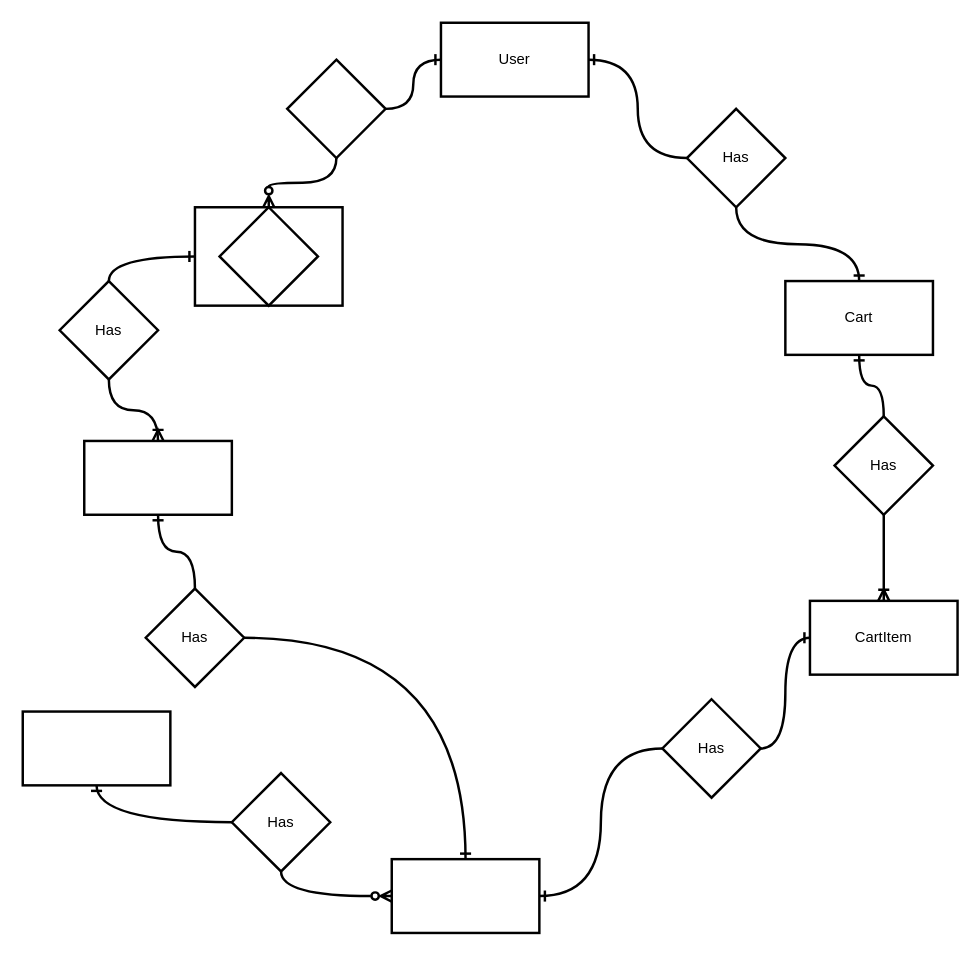
Image size: 979x954. Some labels were removed from this diagram. Each missing label, with the centre of its shape:
"Category" goes at (x=96, y=748).
"Order" goes at (x=268, y=255).
"OrderItem" goes at (x=157, y=477).
"Product" goes at (x=465, y=895).
"Purchase" goes at (x=335, y=108).
